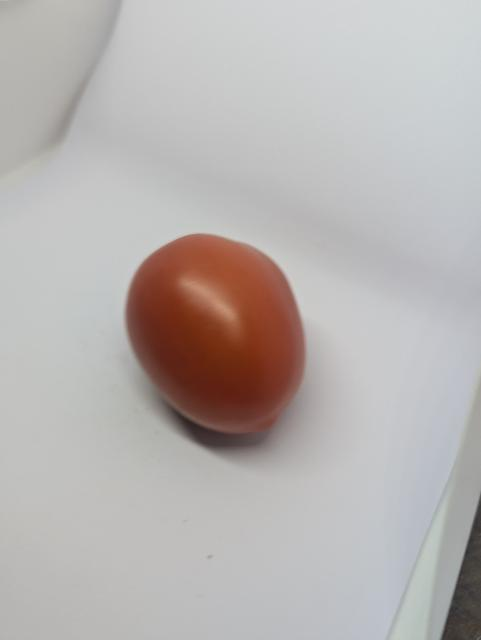red: (127, 209, 321, 454)
